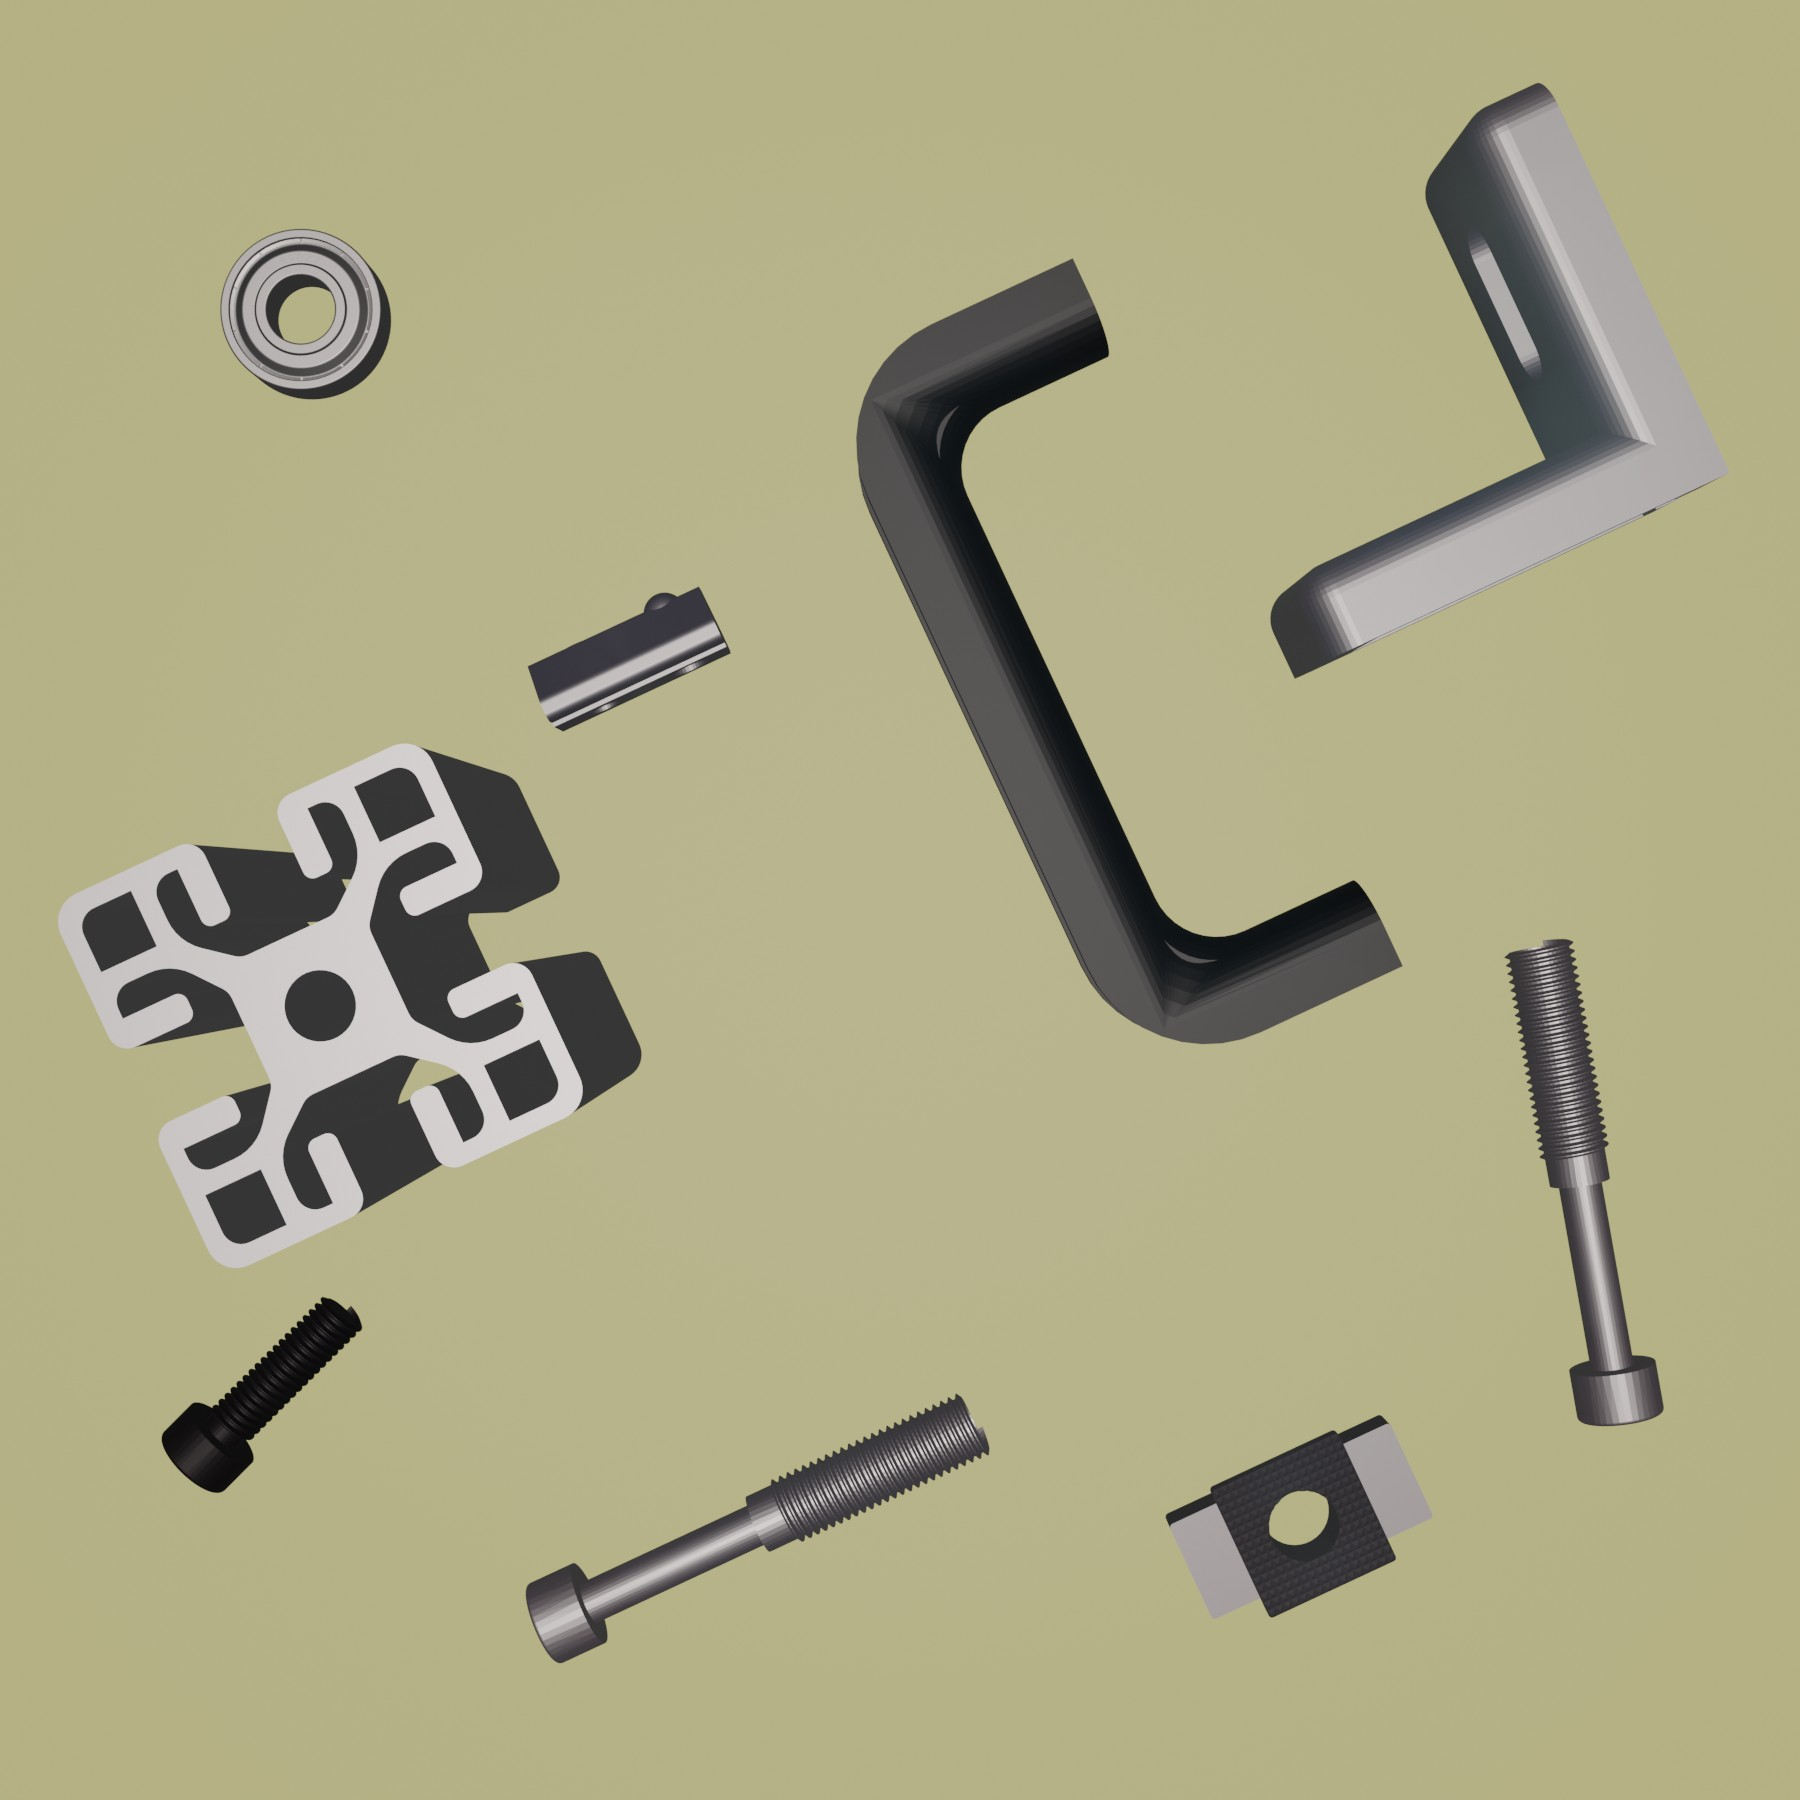Aluminium Extension: (54, 738, 645, 1274)
Ball Bearing: (216, 224, 394, 401)
Multiwinkel: (1269, 81, 1732, 681)
Pull Handle: (854, 254, 1404, 1047)
Shoulder Socket Head Cap Screw: (523, 1391, 992, 1666), (1502, 935, 1666, 1427)
Socket Head Cap Screw: (158, 1292, 363, 1495)
T Nut Square: (1165, 1408, 1437, 1622)
T Spring Nut: (523, 580, 735, 738)
